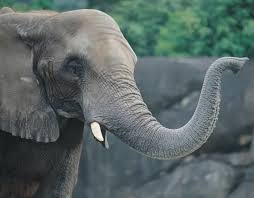Elephant: (0, 1, 248, 195)
